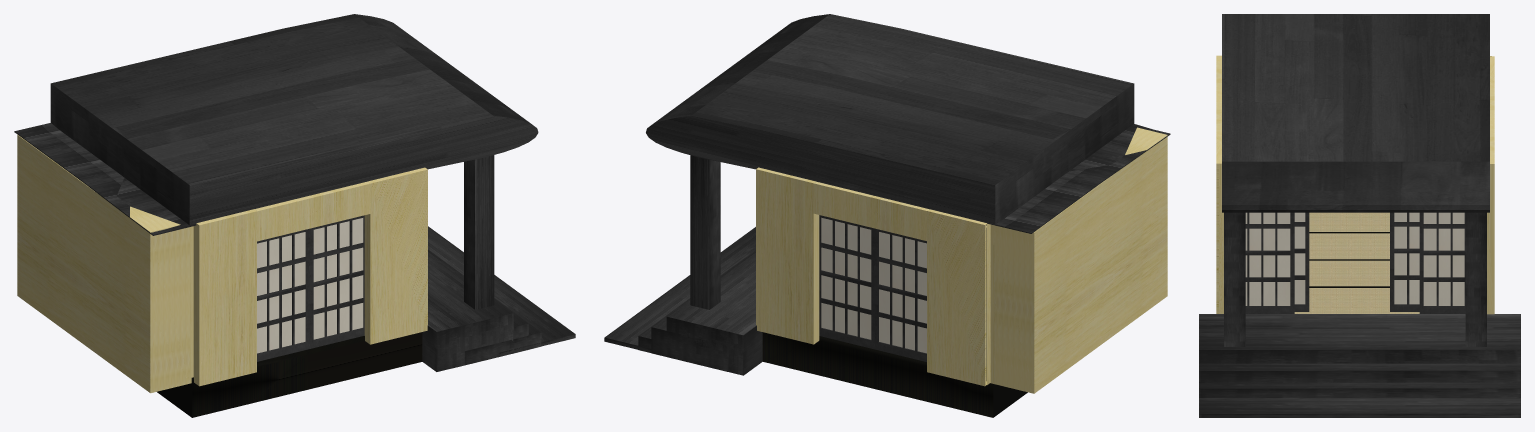
The model's file is RoomGege.fbx.
The picture shows the model from 3 angles, left to right: view 1: azimuth 30°, elevation 25°; view 2: azimuth 150°, elevation 25°; view 3: azimuth 270°, elevation 25°; orthographic projection. The views are drawn at different scales.
Parts seen in each view (by area): view 1: Cube.005, Cube.001, Cube.003, Cube.011, Cube, DaScreen.006, DaScreen.007, ScreenDoor.006, ScreenDoor.007; view 2: Cube.005, Cube.001, Cube.002, Cube.011, Cube, DaScreen.005, DaScreen.004, ScreenDoor.005, ScreenDoor.004, Cube.008; view 3: Cube.005, Cube.011, Cube.013, DaScreen, DaScreen.001, ScreenDoor, ScreenDoor.001, DaScreen.002, Cube.003, Cube.002, ScreenDoor.002, DaScreen.003 (+2 smaller).
Part boxes in pixels (x1,y1,x2,y2): Cube.005: [14, 14, 538, 235]; Cube.001: [17, 134, 193, 393]; Cube.003: [193, 167, 427, 386]; Cube.011: [422, 155, 575, 371]; Cube: [157, 332, 422, 417]; DaScreen.006: [313, 218, 363, 339]; DaScreen.007: [257, 232, 305, 353]; ScreenDoor.006: [310, 215, 364, 348]; ScreenDoor.007: [257, 228, 309, 361]; Cube.005: [646, 14, 1170, 233]; Cube.001: [990, 127, 1167, 393]; Cube.002: [756, 167, 986, 386]; Cube.011: [604, 155, 762, 375]; Cube: [762, 332, 1027, 417]; DaScreen.005: [821, 217, 871, 339]; DaScreen.004: [879, 232, 926, 353]; ScreenDoor.005: [819, 215, 874, 349]; ScreenDoor.004: [874, 228, 926, 361]; Cube.008: [986, 223, 990, 384]; Cube.005: [1222, 14, 1489, 212]; Cube.011: [1199, 212, 1520, 417]; Cube.013: [1294, 212, 1419, 313]; DaScreen: [1245, 212, 1290, 305]; DaScreen.001: [1423, 212, 1464, 305]; ScreenDoor: [1245, 212, 1294, 313]; ScreenDoor.001: [1419, 212, 1465, 313]; DaScreen.002: [1394, 212, 1419, 304]; Cube.003: [1216, 55, 1223, 313]; Cube.002: [1487, 56, 1494, 314]; ScreenDoor.002: [1390, 212, 1419, 311]; DaScreen.003: [1294, 212, 1305, 304].
Size of the model in its own units: 2134 by 1173 by 1500.
